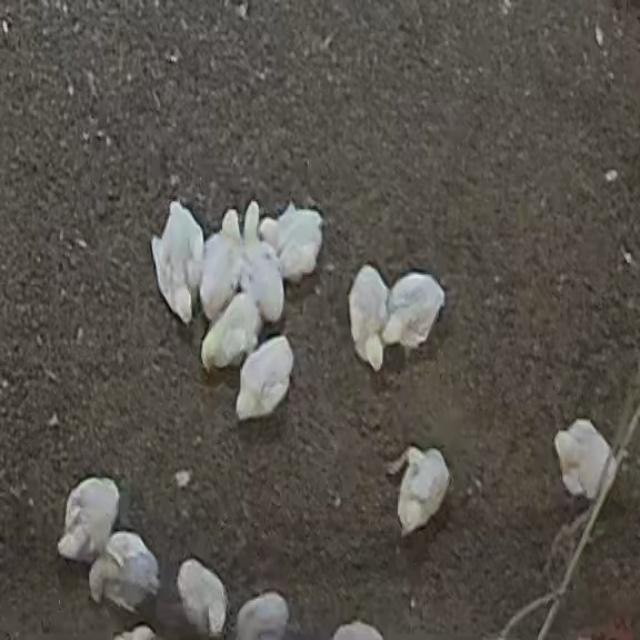chicken: (91, 531, 161, 614), (240, 202, 288, 323), (549, 418, 618, 499), (155, 203, 202, 320), (394, 444, 450, 538), (58, 476, 118, 563), (234, 335, 294, 421), (382, 272, 445, 353), (199, 210, 242, 320), (348, 265, 390, 371), (177, 558, 229, 638), (204, 295, 260, 369), (274, 203, 326, 278)
